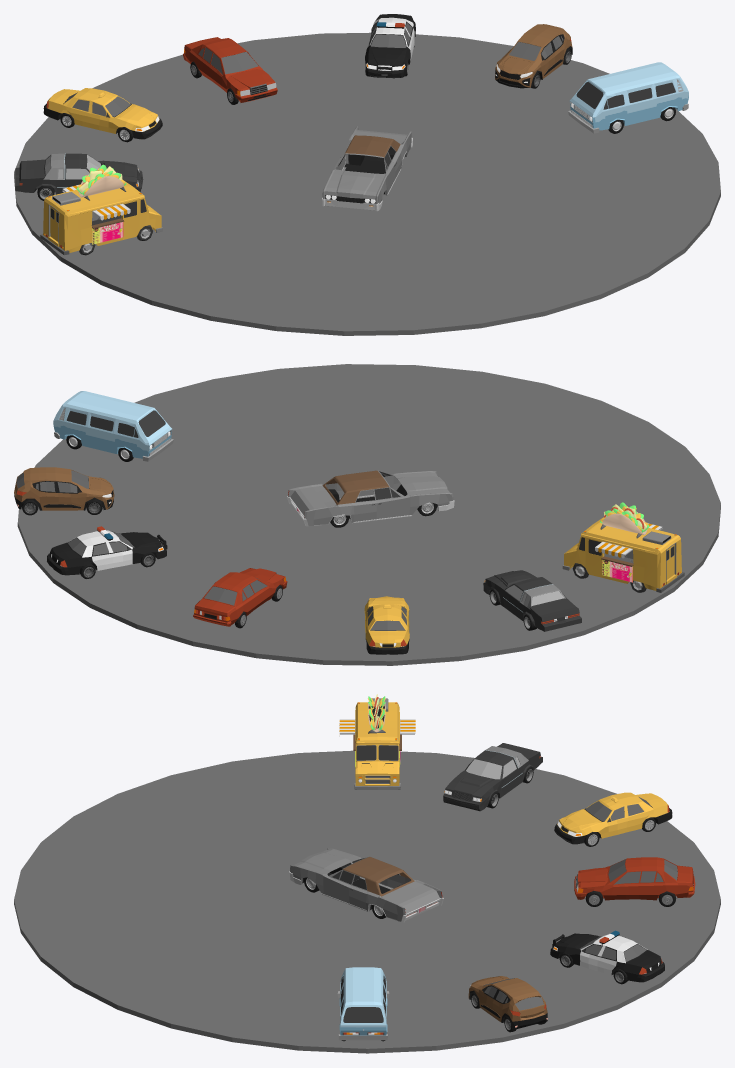
The model's file is Low-Poly_Car_Collection.glb.
3 views of the same model, one above another, from view 1: azimuth 30°, elevation 25°; view 2: azimuth 150°, elevation 25°; view 3: azimuth 270°, elevation 25° (orthographic).
Parts seen in each view (by area): view 1: Circle.001_Material_0, Lincoln_Body_0, Plane.002_Body_0, Circle_Body_0, Plane_Body_0, Plane.001_Body_0, Plane.003_Body_0, Body.001_Body_0, Body_Body_0, Plane.002_Windows_0, Circle_TacoLight_0, Plane_Windows_0 (+4 smaller); view 2: Circle.001_Material_0, Lincoln_Body_0, Plane.002_Body_0, Circle_Body_0, Plane.001_Body_0, Plane.003_Body_0, Plane_Body_0, Body_Body_0, Body.001_Body_0, Plane.002_Windows_0, Circle_TacoLight_0, Plane_Windows_0 (+3 smaller); view 3: Circle.001_Material_0, Lincoln_Body_0, Plane_Body_0, Plane.001_Body_0, Circle_Body_0, Plane.002_Body_0, Plane.003_Body_0, Body_Body_0, Body.001_Body_0, Plane_Windows_0, Plane.002_Windows_0, Plane.001_Windows_0 (+2 smaller).
Boxes of the visible parts, box(x1,y1,x2,y2) form: Circle.001_Material_0: box(14, 32, 720, 335); Lincoln_Body_0: box(322, 126, 412, 211); Plane.002_Body_0: box(568, 62, 688, 133); Circle_Body_0: box(43, 180, 161, 252); Plane_Body_0: box(183, 37, 277, 102); Plane.001_Body_0: box(15, 153, 143, 194); Plane.003_Body_0: box(495, 24, 572, 87); Body.001_Body_0: box(43, 88, 162, 139); Body_Body_0: box(365, 15, 415, 78); Plane.002_Windows_0: box(576, 82, 675, 109); Circle_TacoLight_0: box(76, 164, 126, 197); Plane_Windows_0: box(198, 47, 258, 74); Circle.001_Material_0: box(17, 364, 720, 665); Lincoln_Body_0: box(287, 470, 454, 526); Plane.002_Body_0: box(53, 391, 173, 461); Circle_Body_0: box(564, 518, 681, 590); Plane.001_Body_0: box(483, 570, 581, 631); Plane.003_Body_0: box(14, 467, 114, 510); Plane_Body_0: box(193, 568, 287, 626); Body_Body_0: box(47, 530, 167, 575); Body.001_Body_0: box(364, 600, 409, 654); Plane.002_Windows_0: box(66, 410, 165, 437); Circle_TacoLight_0: box(600, 502, 649, 534); Plane_Windows_0: box(204, 577, 267, 605); Circle.001_Material_0: box(14, 750, 720, 1053); Lincoln_Body_0: box(289, 848, 443, 922); Plane_Body_0: box(574, 857, 695, 900); Plane.001_Body_0: box(443, 743, 542, 811); Circle_Body_0: box(340, 702, 414, 785); Plane.002_Body_0: box(337, 967, 389, 1040); Plane.003_Body_0: box(468, 976, 547, 1022); Body_Body_0: box(550, 934, 664, 982); Body.001_Body_0: box(554, 792, 672, 844); Plane_Windows_0: box(608, 859, 677, 884); Plane.002_Windows_0: box(341, 976, 385, 1022); Plane.001_Windows_0: box(466, 757, 520, 779).
Bounding box in the file's own units: 29.54 × 3.57 × 29.29.
10 materials, 9 textured.
